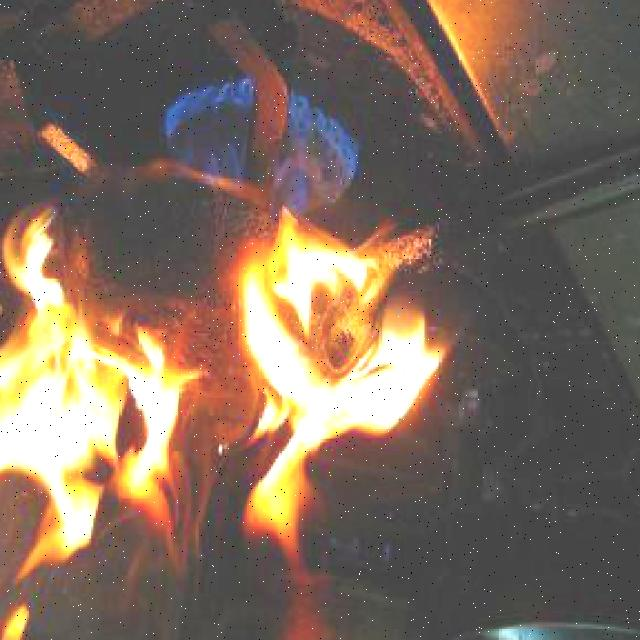fire: (1, 180, 467, 640)
